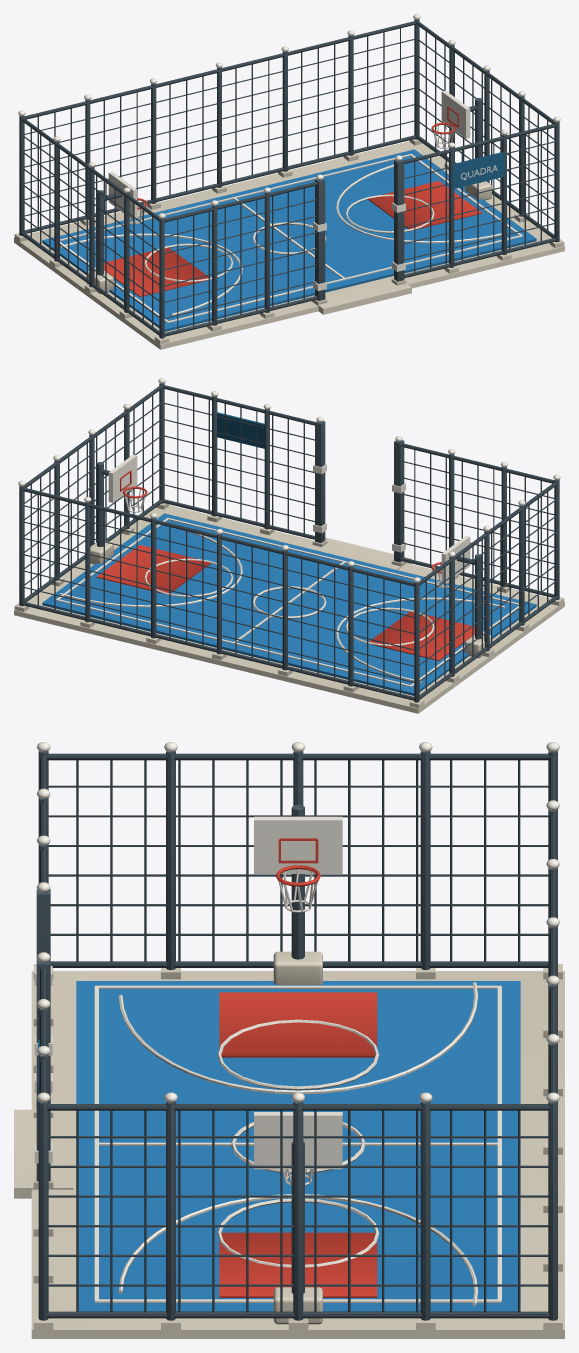
File: court.glb
3 renders of one model, top to bottom at view 1: azimuth 30°, elevation 25°; view 2: azimuth 150°, elevation 25°; view 3: azimuth 270°, elevation 25°, orthographic. The views are drawn at different scales.
Visible parts, largest first — view 1: basket stanchion, sport surface, continuous court apron, touchline, painted key, court number; view 2: basket stanchion, sport surface, continuous court apron, touchline, painted key, court number; view 3: sport surface, basket stanchion, continuous court apron, touchline, painted key.
Part boxes in pixels (left/top/right/bottom): basket stanchion: left=19, top=19, right=559, bottom=338; sport surface: left=42, top=149, right=536, bottom=331; continuous court apron: left=14, top=136, right=564, bottom=349; touchline: left=18, top=14, right=560, bottom=323; painted key: left=104, top=106, right=482, bottom=296; court number: left=452, top=152, right=504, bottom=189; basket stanchion: left=19, top=383, right=559, bottom=702; sport surface: left=42, top=513, right=536, bottom=695; continuous court apron: left=14, top=500, right=564, bottom=713; touchline: left=18, top=378, right=560, bottom=687; painted key: left=96, top=470, right=474, bottom=660; court number: left=217, top=412, right=264, bottom=448; sport surface: left=76, top=981, right=520, bottom=1311; basket stanchion: left=36, top=751, right=557, bottom=1320; continuous court apron: left=14, top=951, right=564, bottom=1338; touchline: left=34, top=742, right=559, bottom=1306; painted key: left=219, top=838, right=377, bottom=1297.
Bounding box in the file's own units: 4.3 × 1.35 × 2.79.
